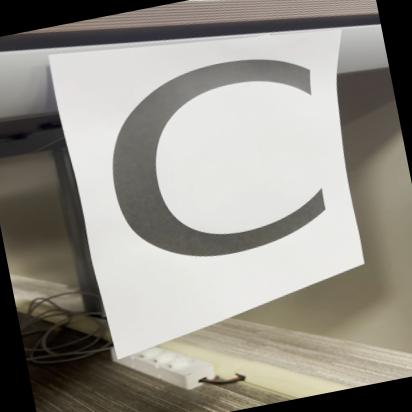seat: (56, 5, 376, 323)
